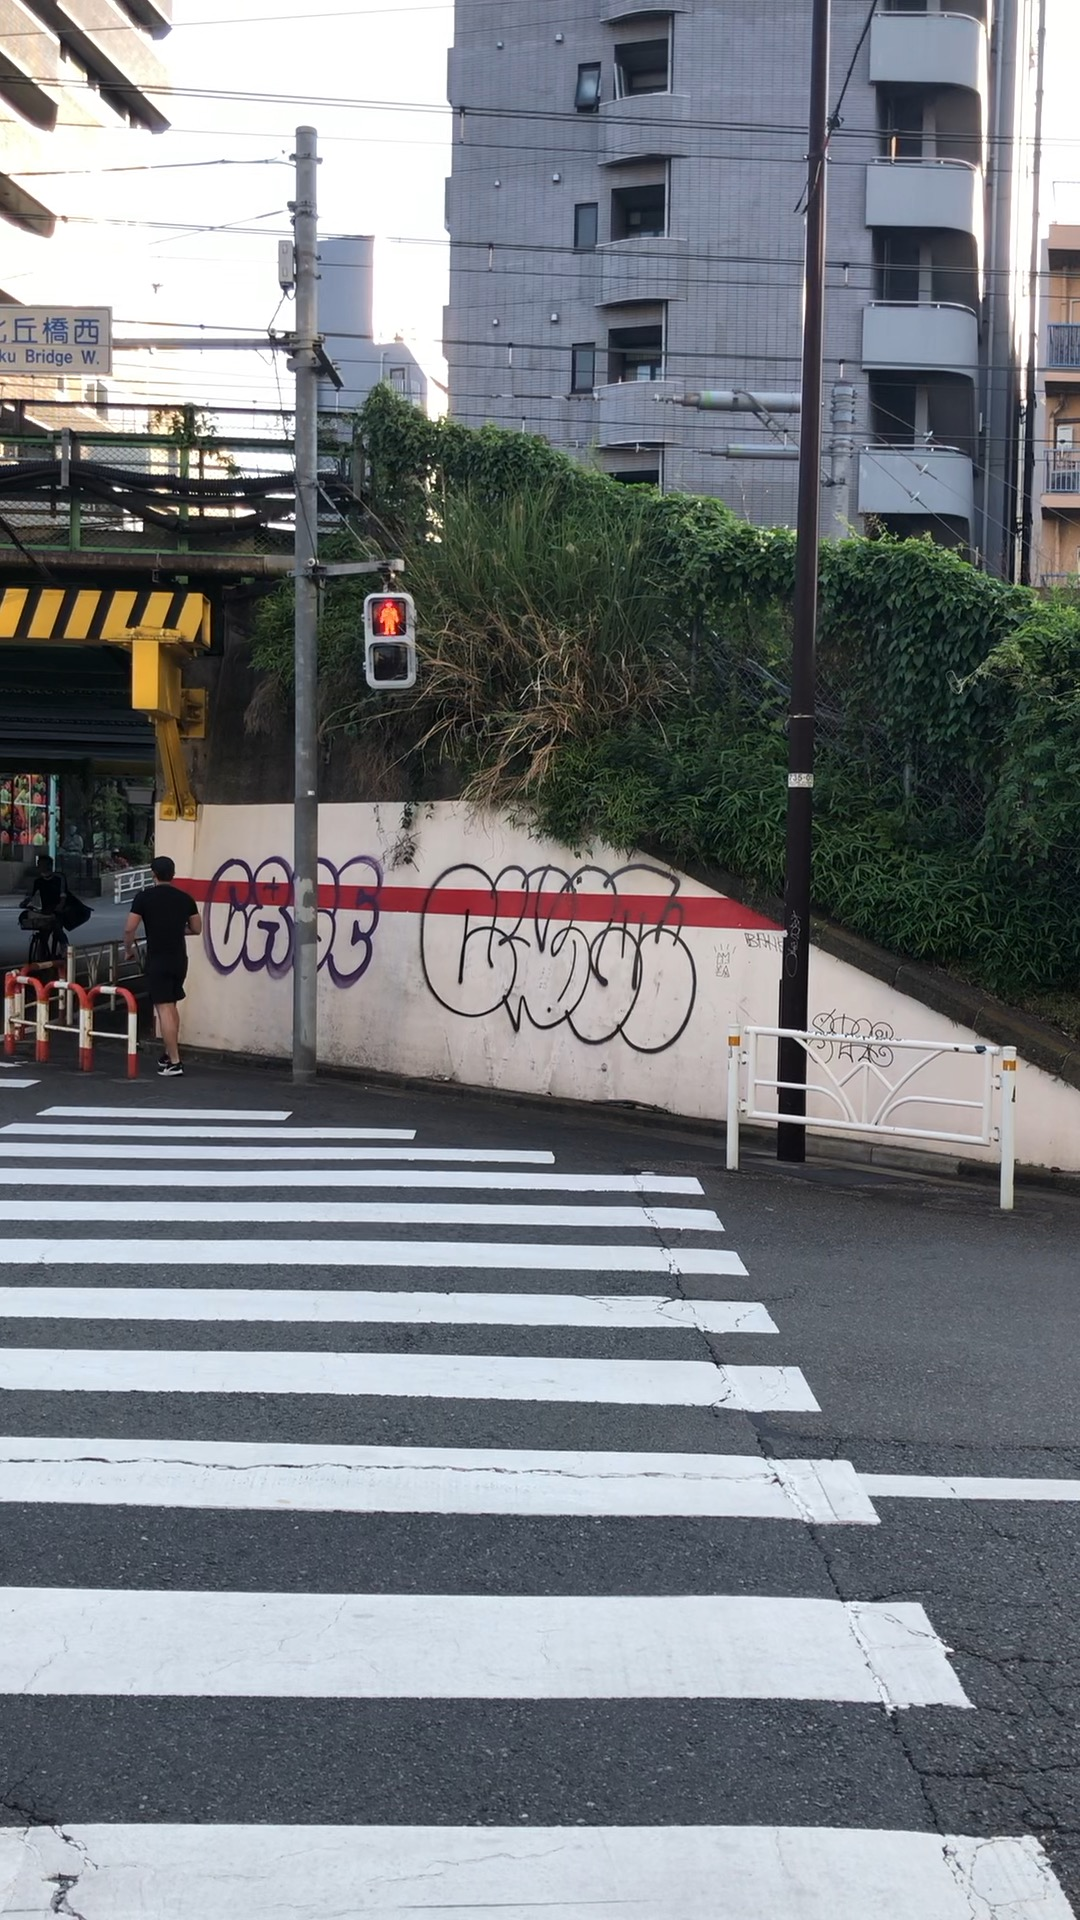red: (363, 591, 417, 690)
